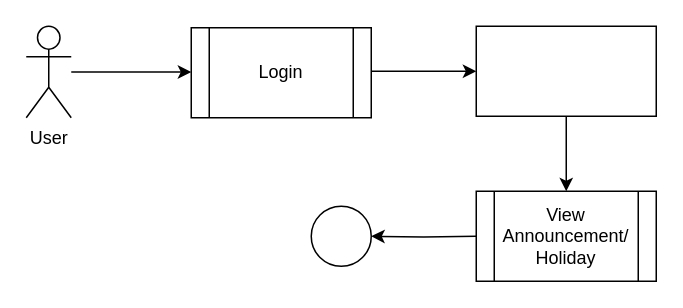
Image size: 683x308. Some labels were removed from this diagram. Each missing label, with the centre of its shape:
Done: point 340,235
Homepage: point 565,70
